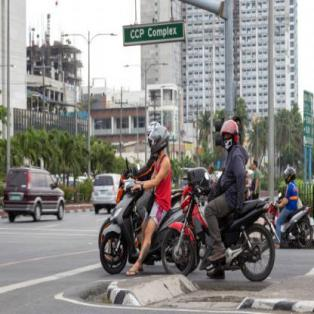Motocicleta: (162, 174, 276, 288), (95, 171, 197, 282)
